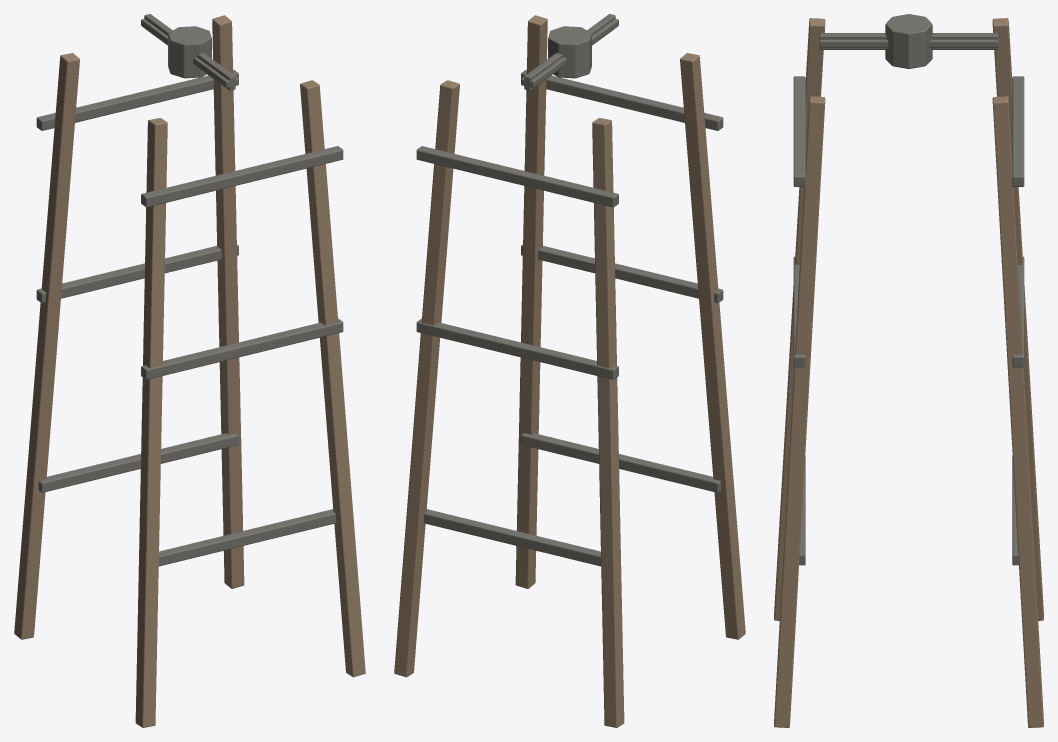
The model's file is windmill.glb.
3 renders of one model, left to right at view 1: azimuth 30°, elevation 25°; view 2: azimuth 150°, elevation 25°; view 3: azimuth 270°, elevation 25°, orthographic. The views are drawn at different scales.
Visible parts, largest first — view 1: leg; view 2: leg; view 3: leg.
Part boxes in pixels (<box>): leg: <box>14,14,365,727</box>; leg: <box>394,14,745,727</box>; leg: <box>774,14,1043,727</box>.
Size of the model in its own units: 1.36 by 3.6 by 1.36.
